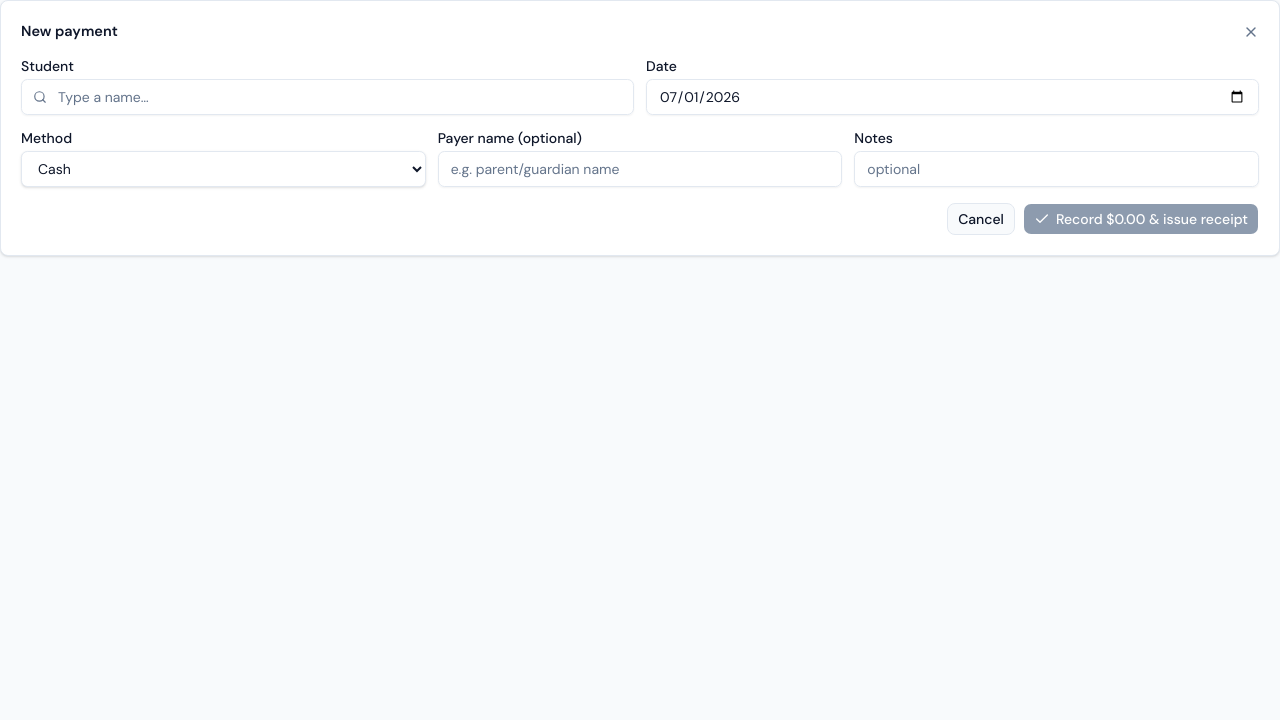
Test: NewPaymentForm — submit gating › submit button enables once a positive allocation is entered
Type "Tendai" into the field labelled "Student" at (328, 97), box [21,79,634,115]
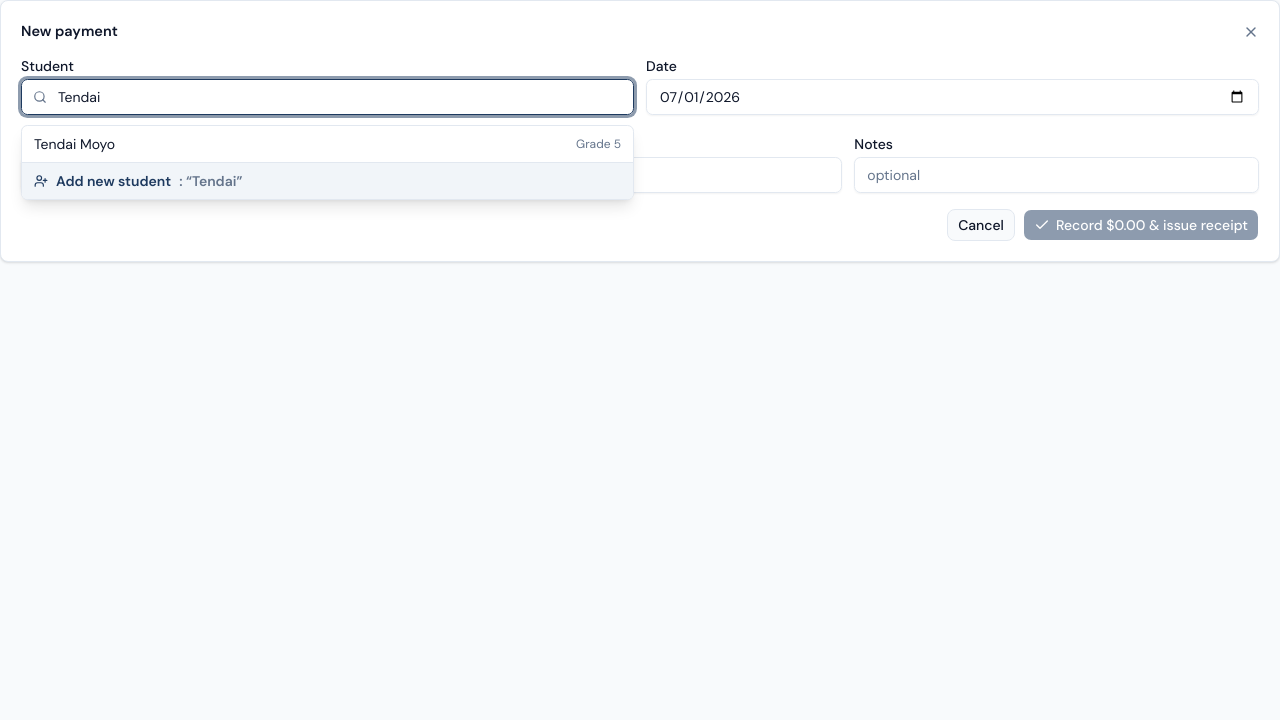
Click the button "Tendai Moyo Grade 5" at (75, 144), box [22,126,633,162]
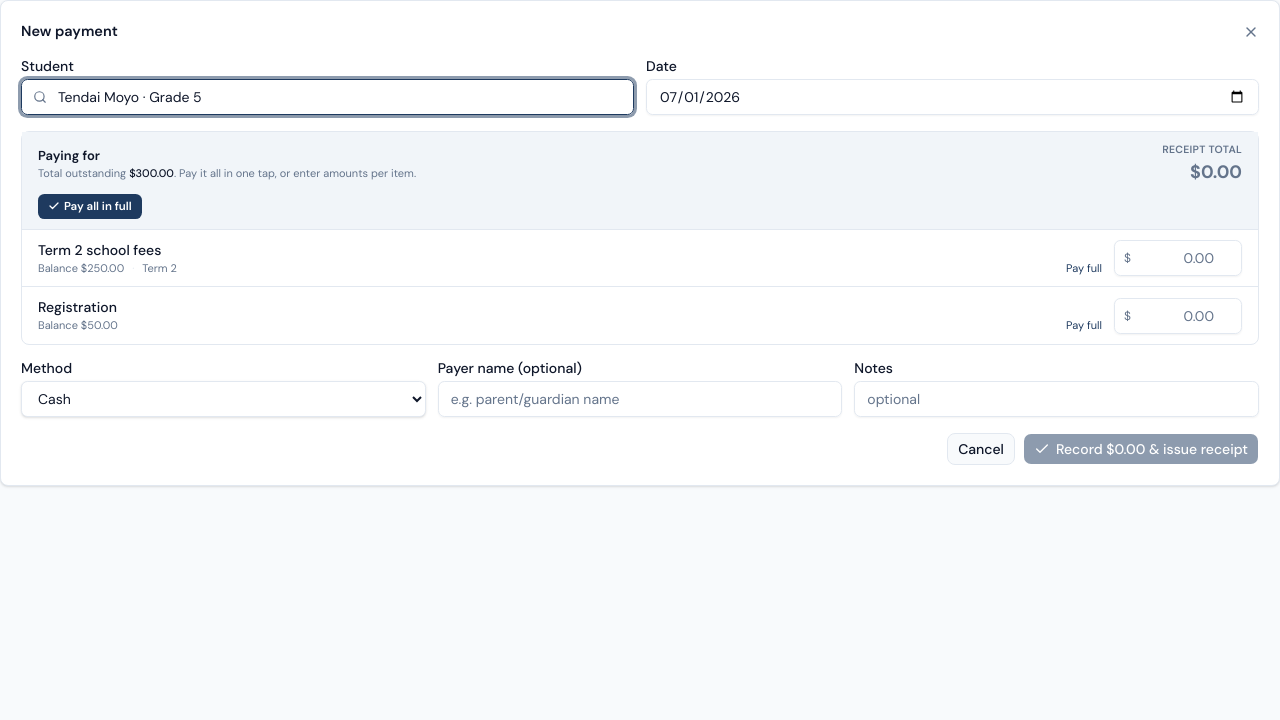
Type "100" into the number field named "Amount paid for Term 2 school fees" at (1178, 258), box [1114,240,1242,276]
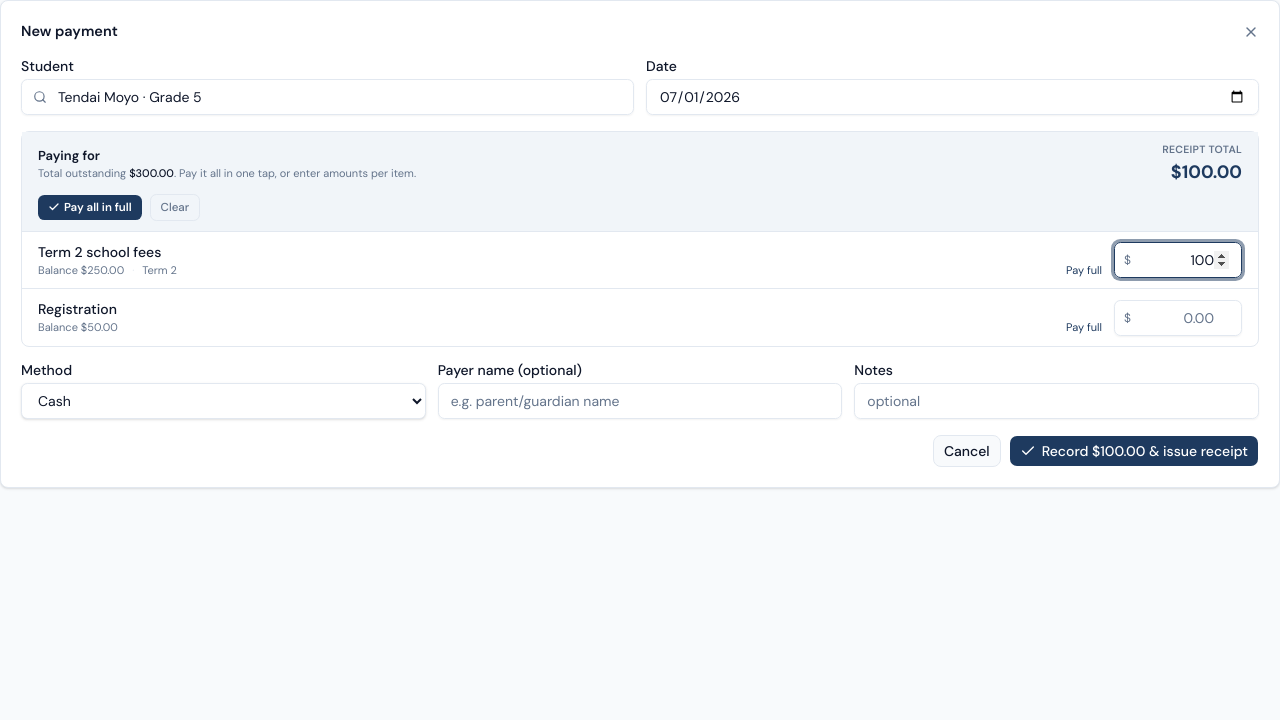
Now the button "Record $100.00 & issue receipt" is enabled, box [1009,435,1259,467]
